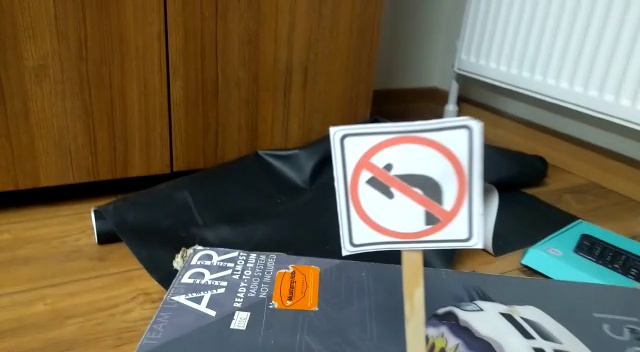sola_donulmez: (347, 124, 470, 249)
